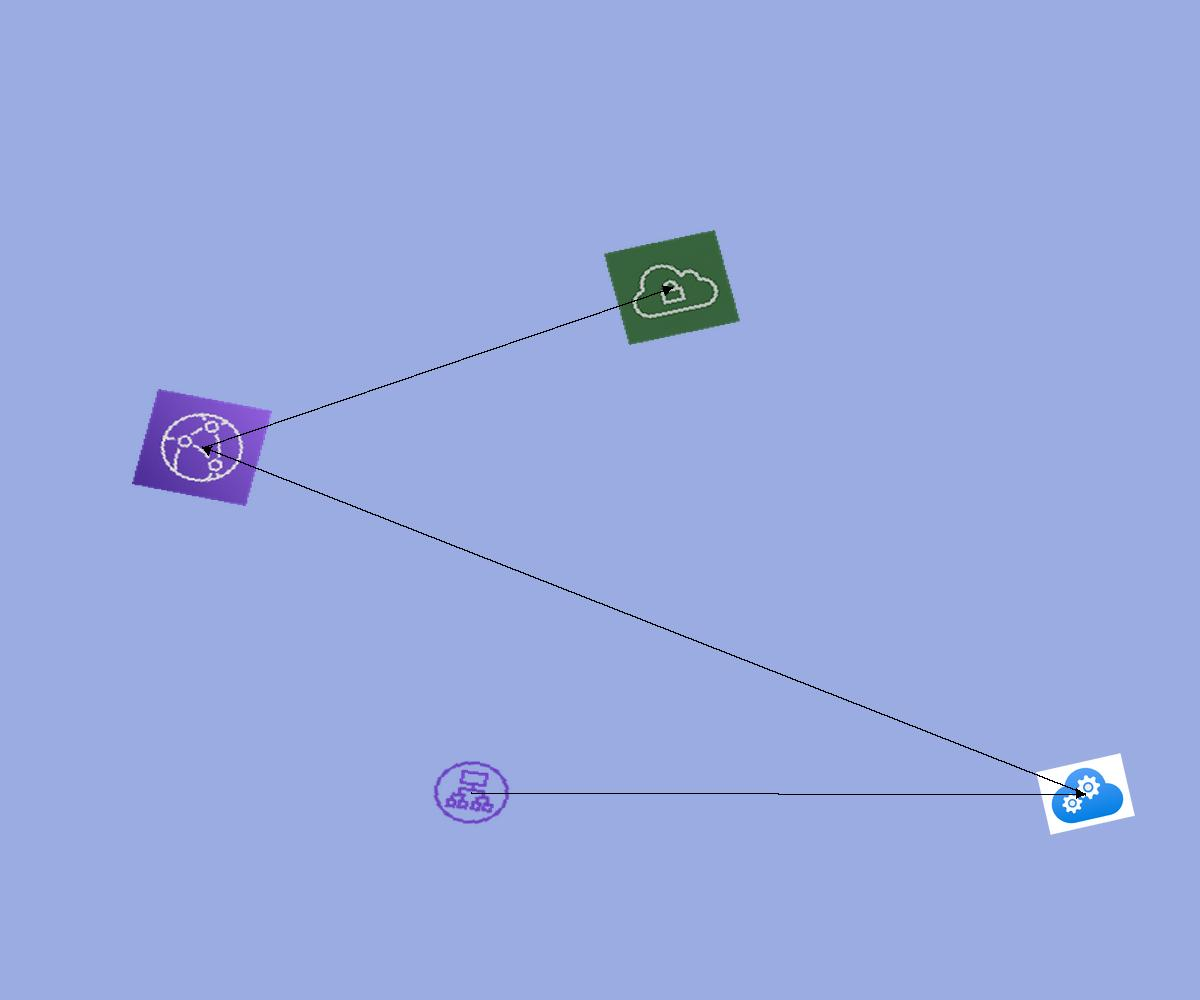AWS-CloudFront: (132, 389, 272, 506)
AWS-Private_vpc: (603, 230, 741, 345)
AWS-Res_Elastic-Load-Balancing_Application-Load-Balancer: (424, 753, 519, 832)
Azure_cloud_services: (1036, 753, 1135, 835)
